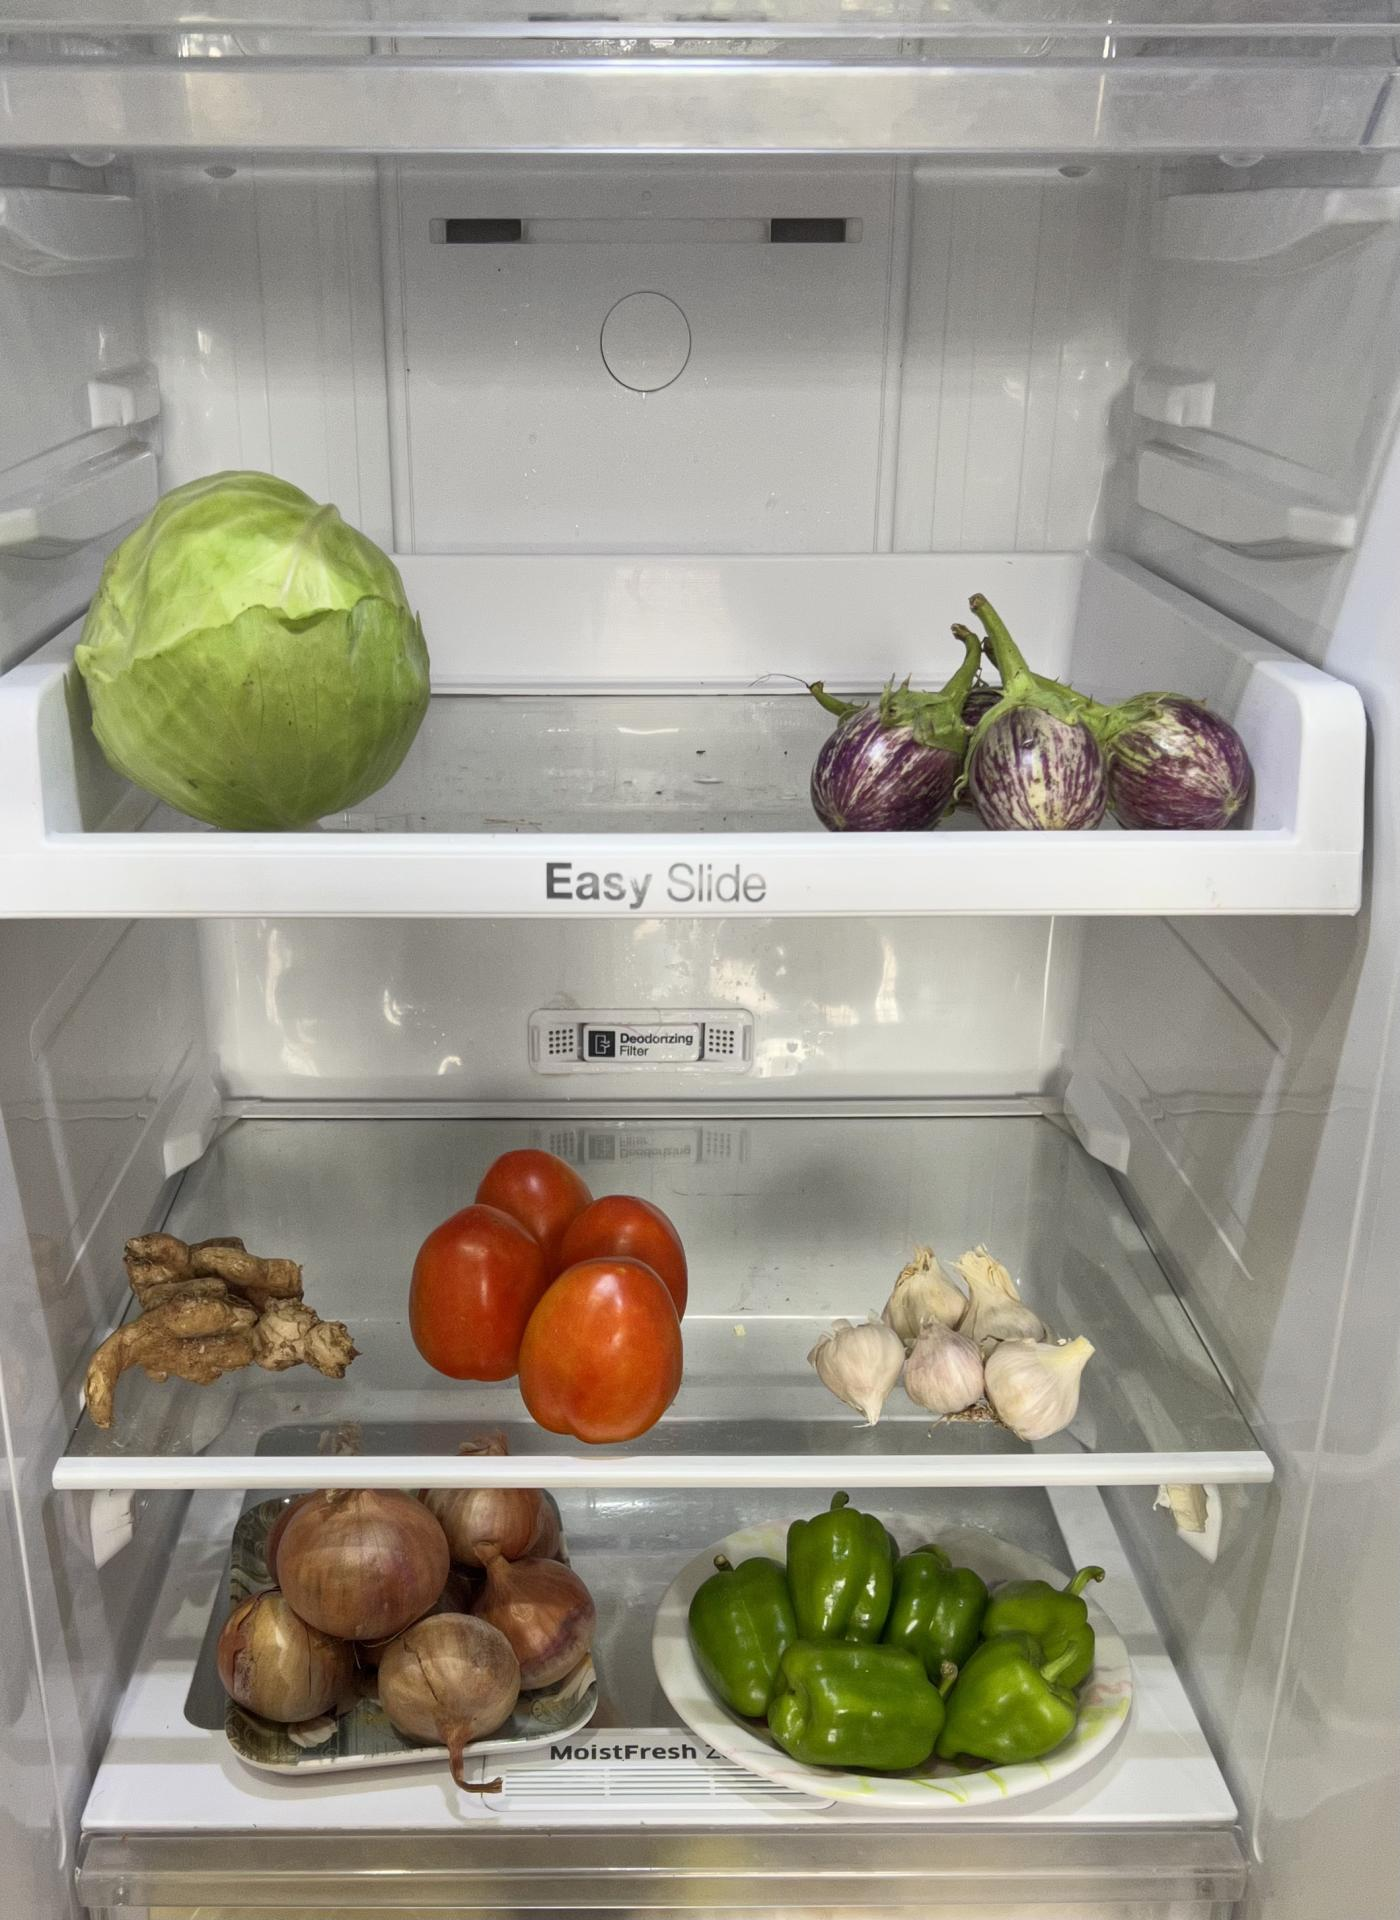cabbage: (79, 474, 435, 818)
capsicum: (696, 1494, 1090, 1774)
garlic: (810, 1246, 1100, 1444)
ginger: (78, 1219, 362, 1422)
onion: (206, 1494, 599, 1763)
tomato: (403, 1140, 687, 1440)
